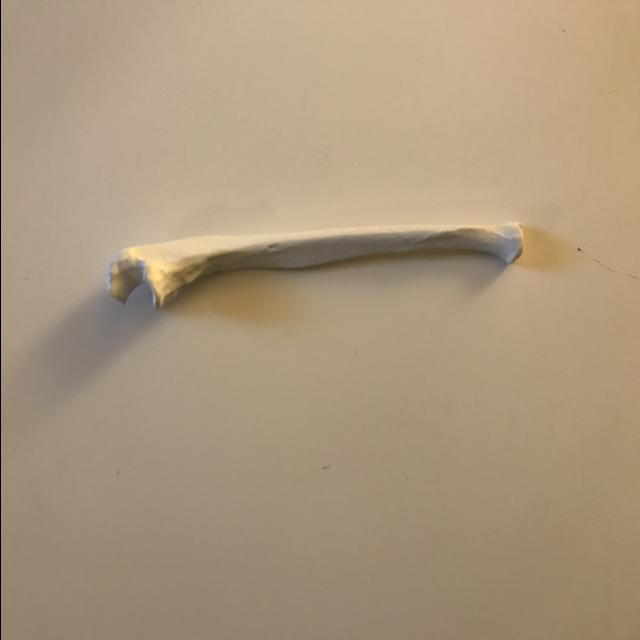bone: (98, 215, 532, 312)
